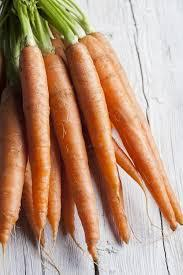Organic: (3, 4, 183, 275)
